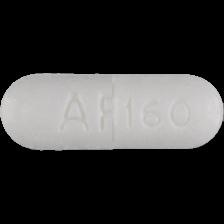60505-0224: (0, 0, 224, 224)
